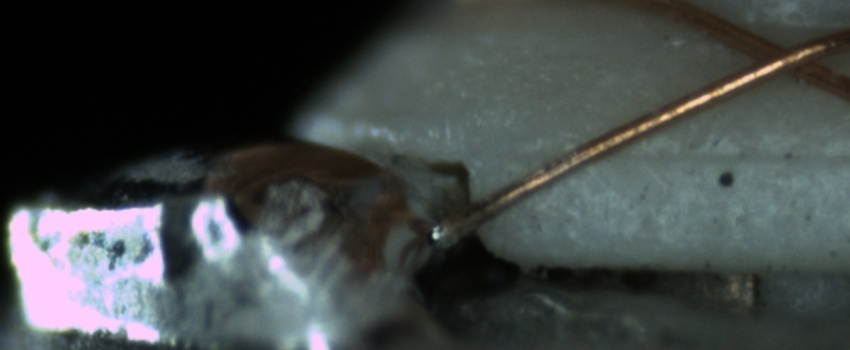CL: (733, 25, 841, 91)
DL: (541, 120, 850, 187)
